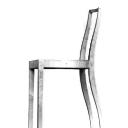chair_success: (20, 2, 115, 128)
